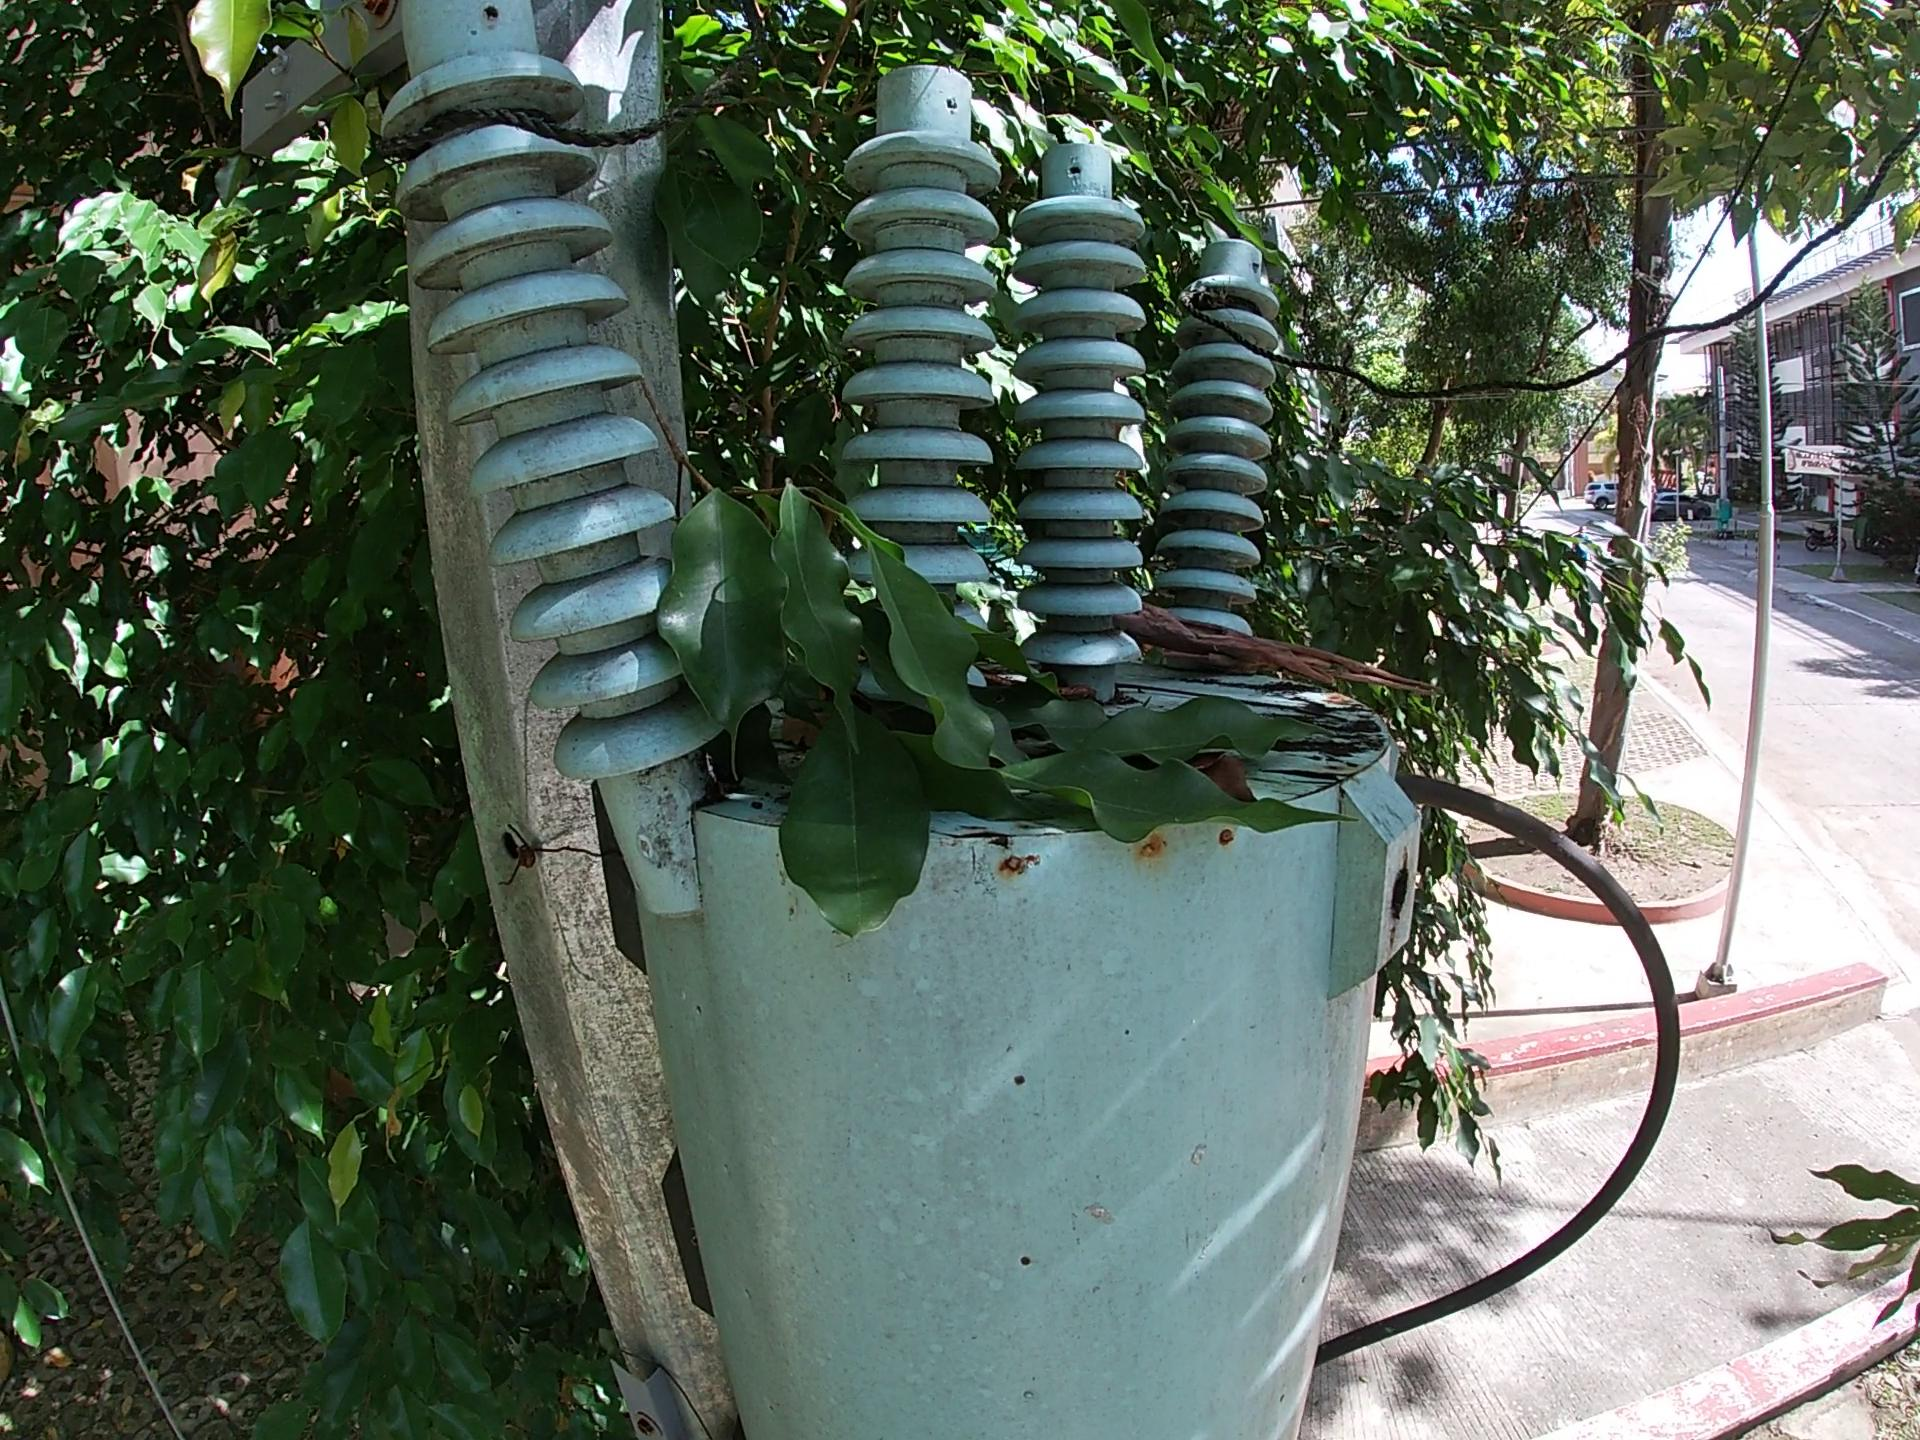branch with leaves: (615, 368, 1374, 964)
mahogany fruit: (977, 675, 1092, 705), (1206, 746, 1267, 799)
tree branch: (1119, 605, 1457, 706), (1119, 682, 1353, 734)
